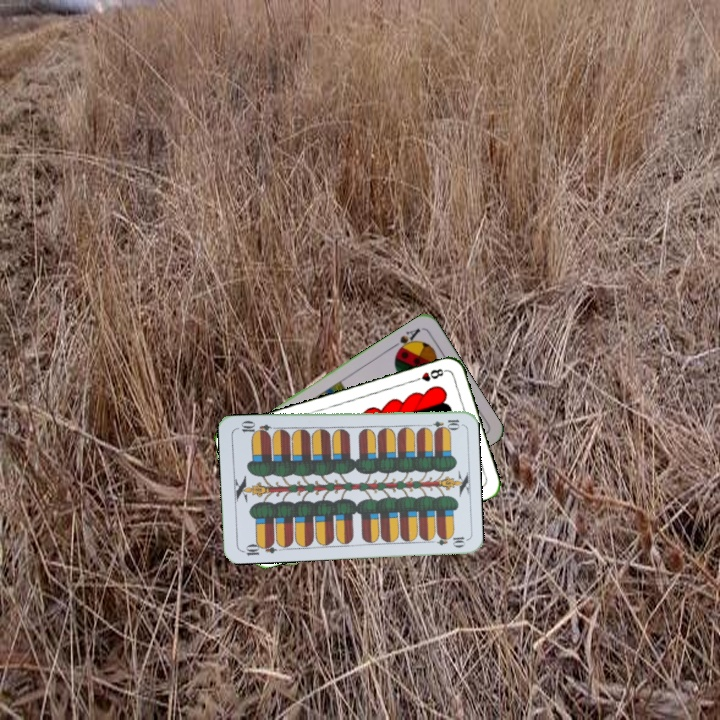E10: (238, 538, 279, 558), (422, 415, 462, 430)
H8: (409, 364, 449, 385)
SA: (387, 324, 423, 357)
